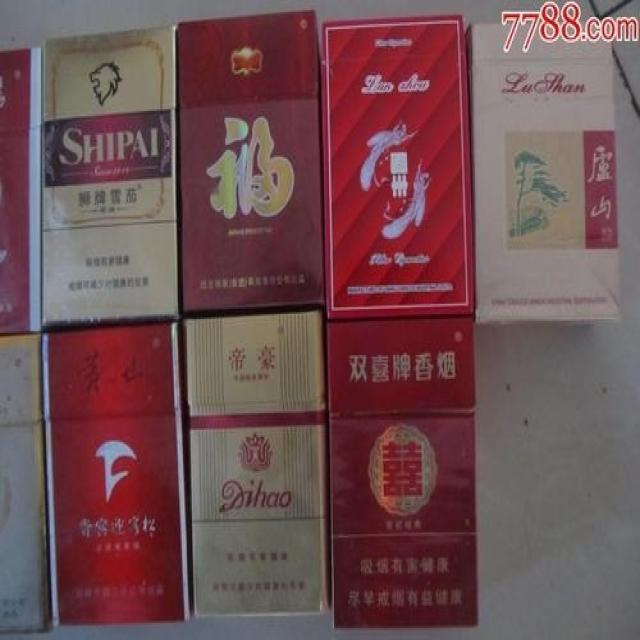box: (324, 312, 479, 631), (321, 15, 474, 319), (466, 24, 621, 324), (41, 323, 193, 628), (182, 311, 332, 618), (177, 12, 325, 319), (44, 24, 179, 331), (0, 333, 51, 633), (0, 44, 42, 336)
